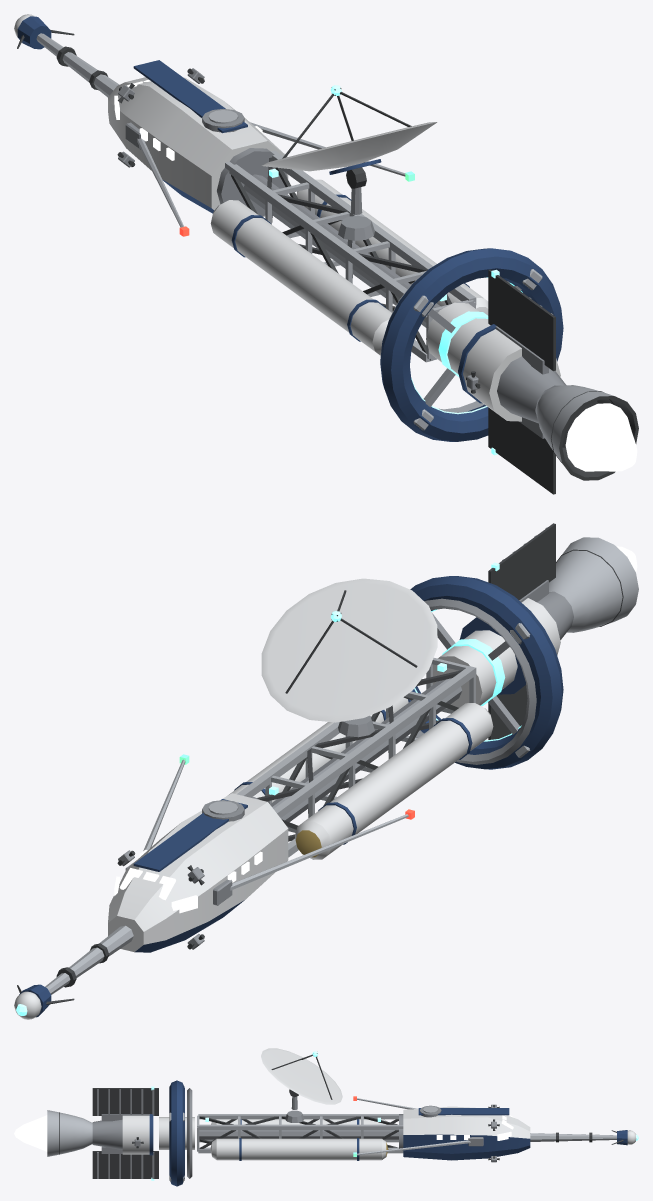
Rendered from explorer.glb.
The picture shows the model from 3 angles, top to bottom: view 1: azimuth 30°, elevation 25°; view 2: azimuth 150°, elevation 25°; view 3: azimuth 270°, elevation 25°; orthographic projection. The views are drawn at different scales.
Visible parts, largest first — view 1: explorer_hull, explorer_drive, sensor_dish, engine_glow; view 2: explorer_hull, explorer_drive, sensor_dish; view 3: explorer_hull, explorer_drive, sensor_dish, engine_glow.
Boxes of the visible parts, bbox=[...] form: explorer_hull: bbox=[14, 14, 488, 362]; explorer_drive: bbox=[380, 248, 638, 494]; sensor_dish: bbox=[262, 85, 437, 214]; engine_glow: bbox=[565, 403, 637, 471]; explorer_hull: bbox=[14, 658, 493, 1019]; explorer_drive: bbox=[408, 523, 638, 769]; sensor_dish: bbox=[261, 578, 437, 722]; explorer_hull: bbox=[197, 1096, 638, 1162]; explorer_drive: bbox=[47, 1080, 194, 1186]; sensor_dish: bbox=[261, 1048, 342, 1109]; engine_glow: bbox=[14, 1115, 47, 1151].
Bounding box in the file's own units: 4.52 × 4.76 × 20.7.
